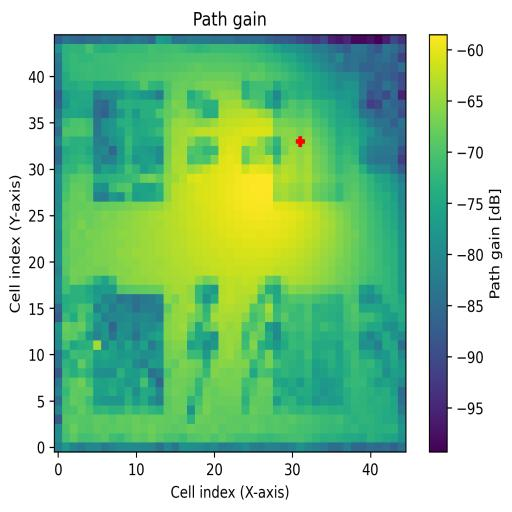Concrete: (274, 81, 345, 201)
Glass: (94, 89, 164, 203)
Metal: (273, 295, 345, 405)
Wood: (94, 294, 164, 414)
